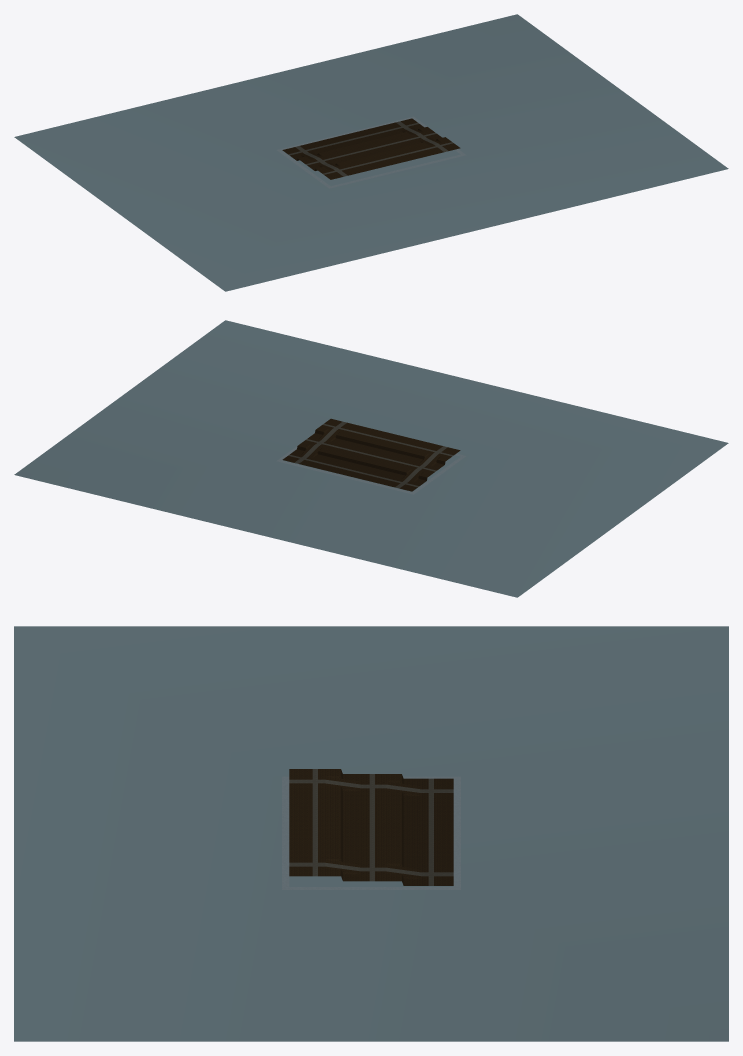
The model's file is v03-terrain.glb.
3 renders of one model, top to bottom at view 1: azimuth 30°, elevation 25°; view 2: azimuth 150°, elevation 25°; view 3: azimuth 270°, elevation 25°, orthographic. The views are drawn at different scales.
Parts seen in each view (by area): view 1: Terrain_water.003, Terrain_ground.014, Terrain_road.014; view 2: Terrain_water.003, Terrain_ground.014, Terrain_road.014; view 3: Terrain_water.003, Terrain_ground.014, Terrain_road.014.
Part boxes in pixels (x1,y1,x2,y2): Terrain_water.003: [14, 14, 728, 291]; Terrain_ground.014: [282, 118, 460, 179]; Terrain_road.014: [288, 121, 453, 176]; Terrain_water.003: [14, 320, 728, 597]; Terrain_ground.014: [282, 418, 460, 491]; Terrain_road.014: [288, 421, 453, 488]; Terrain_water.003: [14, 626, 728, 1041]; Terrain_ground.014: [289, 769, 453, 885]; Terrain_road.014: [289, 769, 453, 885].
Size of the model in its own units: 550 by 6.97 by 400.
Materials: 3 (2 with a texture image).
